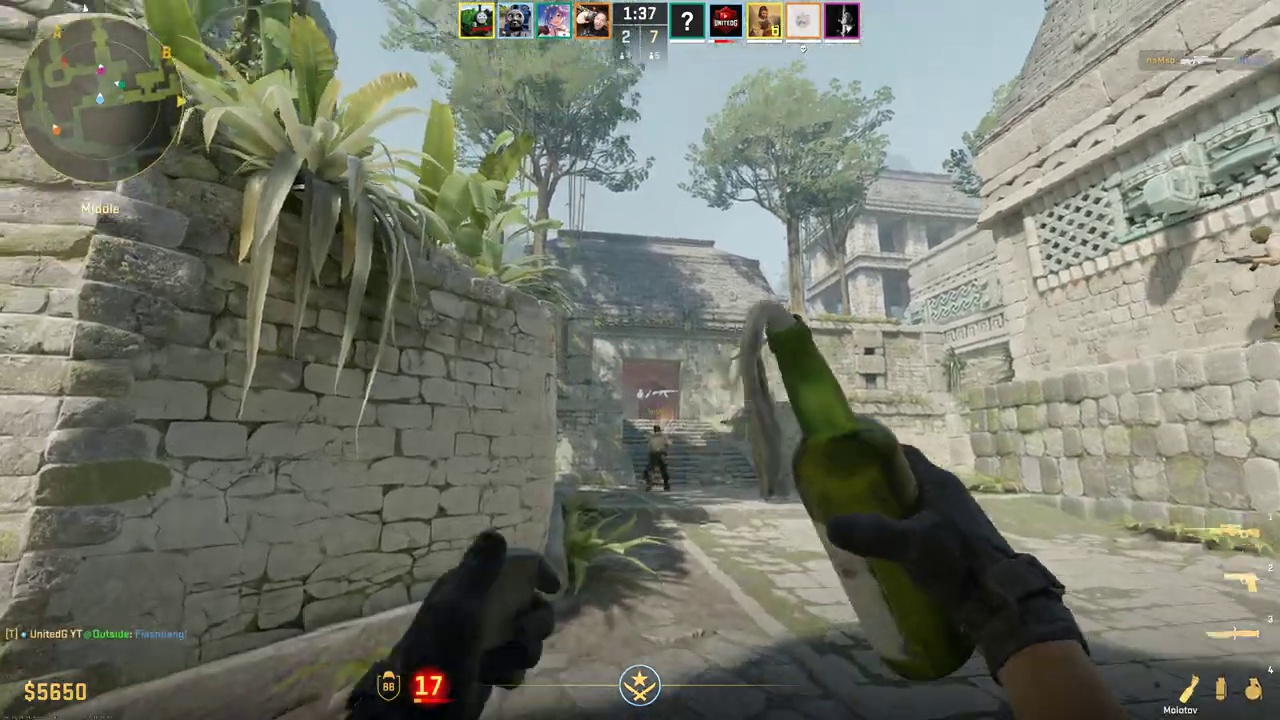Terrorist: (644, 425, 672, 492)
